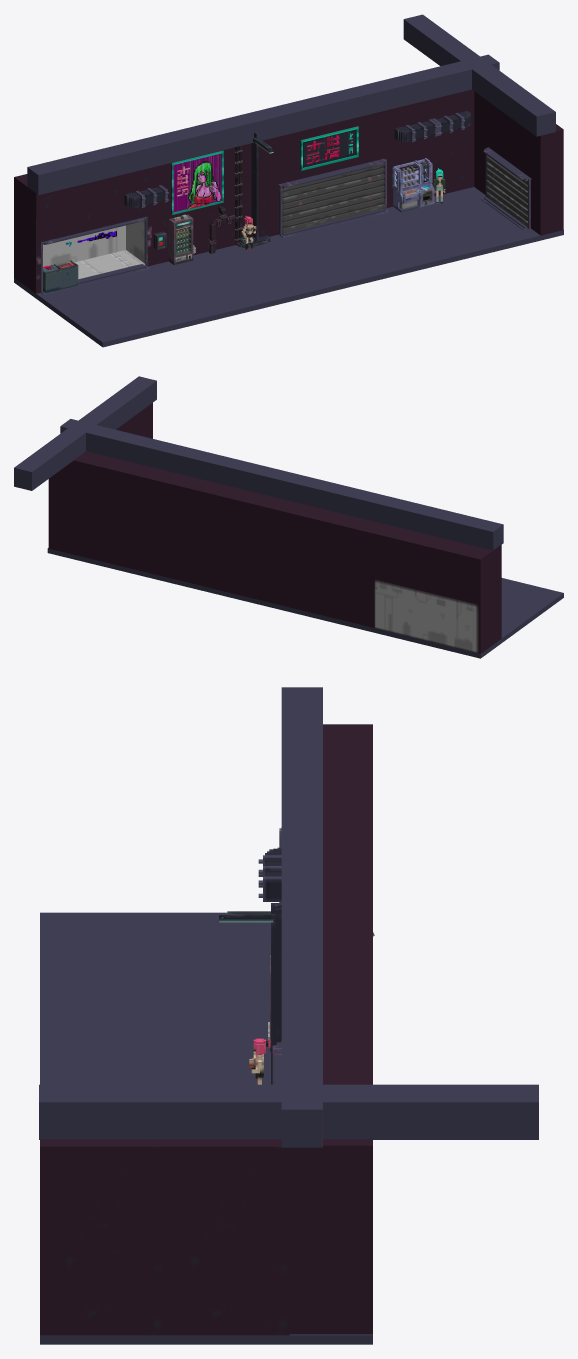
Rendered from level2.obj.
3 views of the same model, one above another, from view 1: azimuth 30°, elevation 25°; view 2: azimuth 150°, elevation 25°; view 3: azimuth 270°, elevation 25° (orthographic). The views are drawn at different scales.
Visible parts, largest first — view 1: BuildingModule_Base_00_Cyberpunk_Streets_-_BASE.003, GroundTile_B_00.001_Cyberpunk_Streets_-_BASE.001, GroundTile_B_00.002_Cyberpunk_Streets_-_BASE.002, GroundTile_B_00_Cyberpunk_Streets_-_BASE, Entrance_B_00.001_Cyberpunk_Streets_-_BASE.028, Block_B_00_Cyberpunk_Streets_-_BASE.023, BuildingModule_M_00.005_Cyberpunk_Streets_-_BASE.029, BuildingModule_M_00_Cyberpunk_Streets_-_BASE.004, BuildingModule_M_00.001_Cyberpunk_Streets_-_BASE.005, BuildingModule_M_00.004_Cyberpunk_Streets_-_BASE.041, Billboard_Girl_B_00_Cyberpunk_Streets_-_GLOSSY.007, Block_B_00.001_Cyberpunk_Streets_-_BASE.024 (+21 smaller); view 2: BuildingModule_Base_00_Cyberpunk_Streets_-_BASE.003, BuildingModule_M_00.002_Cyberpunk_Streets_-_BASE.006, BuildingModule_M_00.001_Cyberpunk_Streets_-_BASE.005, BuildingModule_M_00.003_Cyberpunk_Streets_-_BASE.027, BuildingModule_M_00_Cyberpunk_Streets_-_BASE.004, BuildingModule_M_00.006_Cyberpunk_Streets_-_BASE.030, BuildingModule_M_00.004_Cyberpunk_Streets_-_BASE.041, Block_B_00_Cyberpunk_Streets_-_BASE.023, GroundTile_B_00.001_Cyberpunk_Streets_-_BASE.001, Block_B_00.001_Cyberpunk_Streets_-_BASE.024, Block_B_00.004_Cyberpunk_Streets_-_BASE.031, Block_B_00.005_Cyberpunk_Streets_-_BASE.032 (+6 smaller); view 3: GroundTile_B_00.001_Cyberpunk_Streets_-_BASE.001, Block_B_00_Cyberpunk_Streets_-_BASE.023, BuildingModule_M_00.005_Cyberpunk_Streets_-_BASE.029, BuildingModule_M_00.007_Cyberpunk_Streets_-_BASE.042, BuildingModule_M_00.004_Cyberpunk_Streets_-_BASE.041, GroundTile_B_00.002_Cyberpunk_Streets_-_BASE.002, BuildingModule_Base_00_Cyberpunk_Streets_-_BASE.003, Block_B_00.006_Cyberpunk_Streets_-_BASE.043, GroundTile_B_00_Cyberpunk_Streets_-_BASE, Block_B_00.001_Cyberpunk_Streets_-_BASE.024, Block_B_00.004_Cyberpunk_Streets_-_BASE.031, Block_B_00.002_Cyberpunk_Streets_-_BASE.025 (+9 smaller).
Boxes of the visible parts, left/top/right/bottom form: BuildingModule_Base_00_Cyberpunk_Streets_-_BASE.003: left=14, top=167, right=151, bottom=294; GroundTile_B_00.001_Cyberpunk_Streets_-_BASE.001: left=14, top=259, right=256, bottom=347; GroundTile_B_00.002_Cyberpunk_Streets_-_BASE.002: left=193, top=222, right=410, bottom=309; GroundTile_B_00_Cyberpunk_Streets_-_BASE: left=348, top=187, right=563, bottom=272; Entrance_B_00.001_Cyberpunk_Streets_-_BASE.028: left=278, top=158, right=388, bottom=237; Block_B_00_Cyberpunk_Streets_-_BASE.023: left=403, top=14, right=555, bottom=136; BuildingModule_M_00.005_Cyberpunk_Streets_-_BASE.029: left=507, top=115, right=563, bottom=235; BuildingModule_M_00_Cyberpunk_Streets_-_BASE.004: left=210, top=139, right=267, bottom=249; BuildingModule_M_00.001_Cyberpunk_Streets_-_BASE.005: left=381, top=97, right=439, bottom=207; BuildingModule_M_00.004_Cyberpunk_Streets_-_BASE.041: left=438, top=89, right=474, bottom=195; Billboard_Girl_B_00_Cyberpunk_Streets_-_GLOSSY.007: left=171, top=150, right=223, bottom=214; Block_B_00.001_Cyberpunk_Streets_-_BASE.024: left=27, top=148, right=115, bottom=195; BuildingModule_Base_00_Cyberpunk_Streets_-_BASE.003: left=373, top=524, right=501, bottom=653; BuildingModule_M_00.002_Cyberpunk_Streets_-_BASE.006: left=315, top=510, right=385, bottom=627; BuildingModule_M_00.001_Cyberpunk_Streets_-_BASE.005: left=102, top=458, right=168, bottom=574; BuildingModule_M_00.003_Cyberpunk_Streets_-_BASE.027: left=209, top=484, right=275, bottom=600; BuildingModule_M_00_Cyberpunk_Streets_-_BASE.004: left=263, top=497, right=327, bottom=614; BuildingModule_M_00.006_Cyberpunk_Streets_-_BASE.030: left=156, top=471, right=222, bottom=587; BuildingModule_M_00.004_Cyberpunk_Streets_-_BASE.041: left=48, top=451, right=114, bottom=561; Block_B_00_Cyberpunk_Streets_-_BASE.023: left=14, top=376, right=156, bottom=490; GroundTile_B_00.001_Cyberpunk_Streets_-_BASE.001: left=336, top=578, right=563, bottom=658; Block_B_00.001_Cyberpunk_Streets_-_BASE.024: left=421, top=507, right=503, bottom=550; Block_B_00.004_Cyberpunk_Streets_-_BASE.031: left=204, top=454, right=286, bottom=497; Block_B_00.005_Cyberpunk_Streets_-_BASE.032: left=132, top=436, right=214, bottom=479; GroundTile_B_00.001_Cyberpunk_Streets_-_BASE.001: left=40, top=912, right=270, bottom=1053; Block_B_00_Cyberpunk_Streets_-_BASE.023: left=39, top=1084, right=538, bottom=1139; BuildingModule_M_00.005_Cyberpunk_Streets_-_BASE.029: left=40, top=1139, right=164, bottom=1335; BuildingModule_M_00.007_Cyberpunk_Streets_-_BASE.042: left=165, top=1139, right=289, bottom=1335; BuildingModule_M_00.004_Cyberpunk_Streets_-_BASE.041: left=289, top=1139, right=372, bottom=1334; GroundTile_B_00.002_Cyberpunk_Streets_-_BASE.002: left=40, top=1053, right=270, bottom=1084; BuildingModule_Base_00_Cyberpunk_Streets_-_BASE.003: left=279, top=724, right=372, bottom=902; Block_B_00.006_Cyberpunk_Streets_-_BASE.043: left=281, top=1039, right=322, bottom=1147; GroundTile_B_00_Cyberpunk_Streets_-_BASE: left=40, top=1334, right=372, bottom=1344; Block_B_00.001_Cyberpunk_Streets_-_BASE.024: left=281, top=687, right=322, bottom=757; Block_B_00.004_Cyberpunk_Streets_-_BASE.031: left=281, top=898, right=322, bottom=968; Block_B_00.002_Cyberpunk_Streets_-_BASE.025: left=281, top=757, right=322, bottom=827.
Bounding box in the file's own units: 24 × 6.22 × 12.
